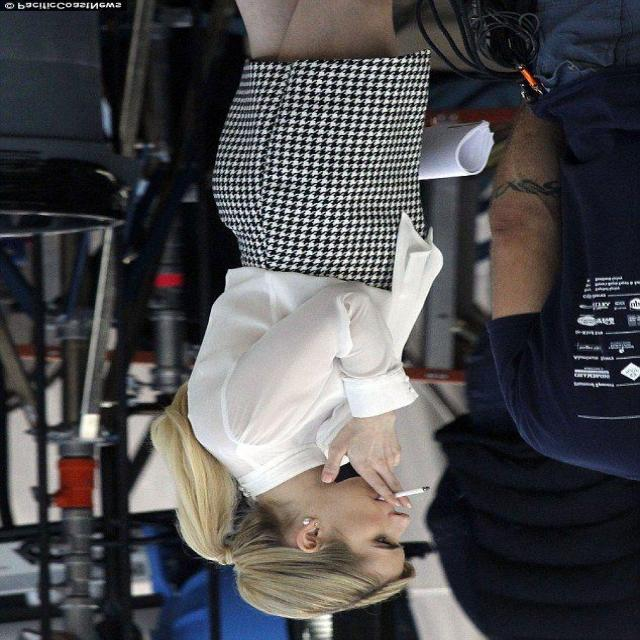cigarette: (379, 482, 437, 514)
